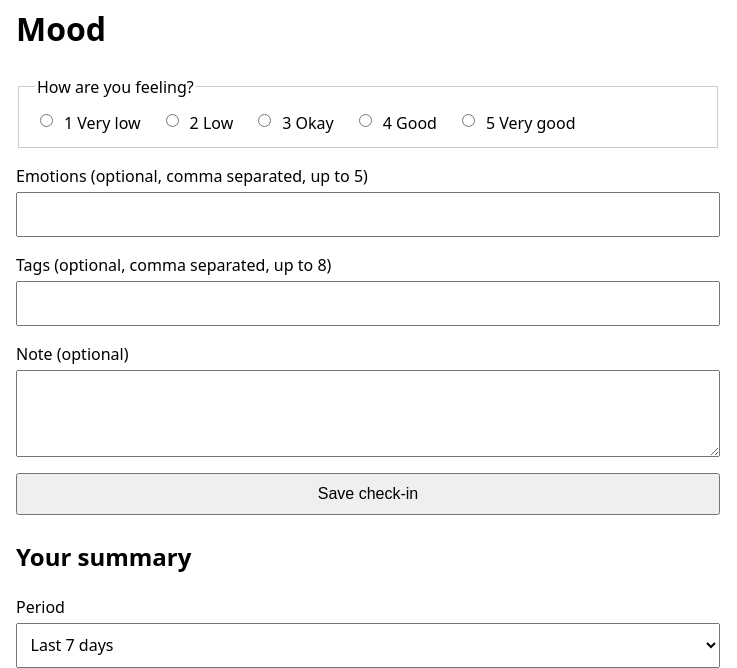
Test case: MoodPage › saves a check-in with the chosen mood and parsed tags
Click the radio button labelled "4 Good": (365, 120) [359,114,372,127]
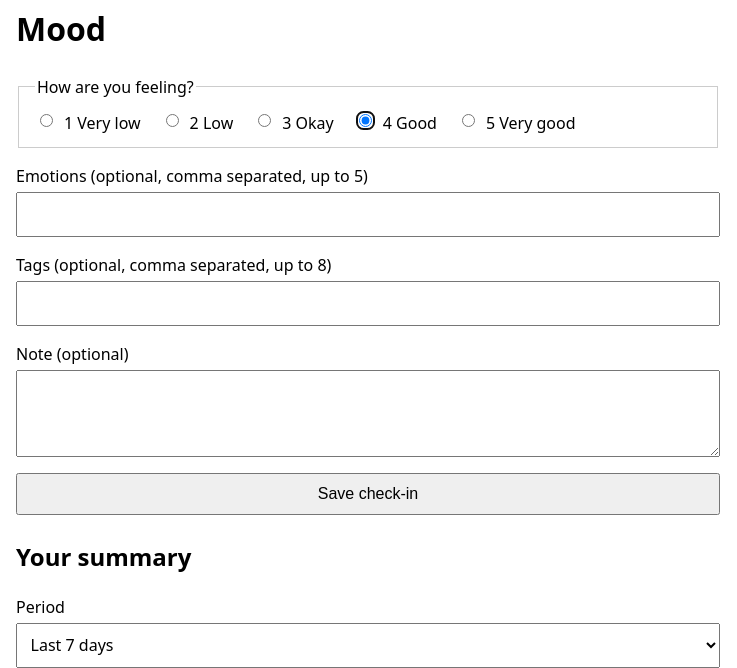
In the field labelled "Tags (optional, comma separated, up to 8)": (368, 304) [16,281,720,326], type "Exam Stress, sleep"
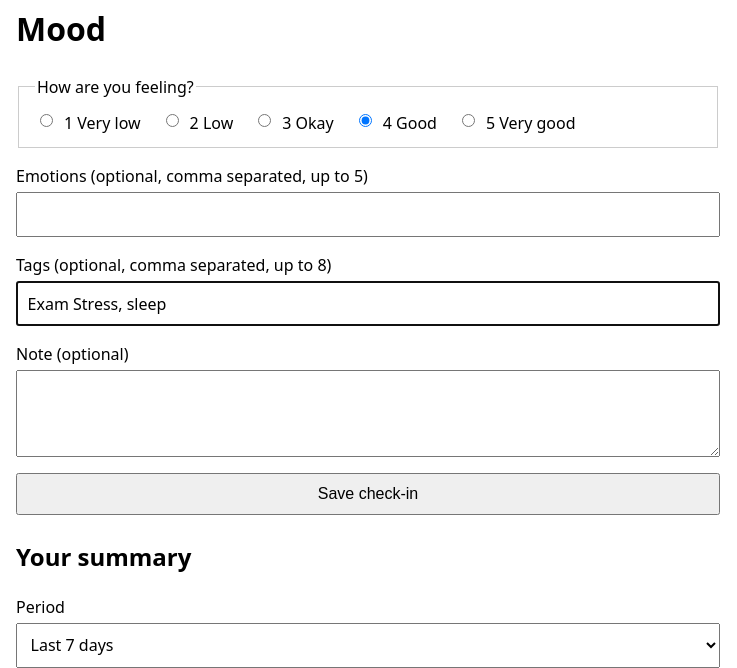
Click the button "Save check-in": (368, 494) [16,473,720,515]
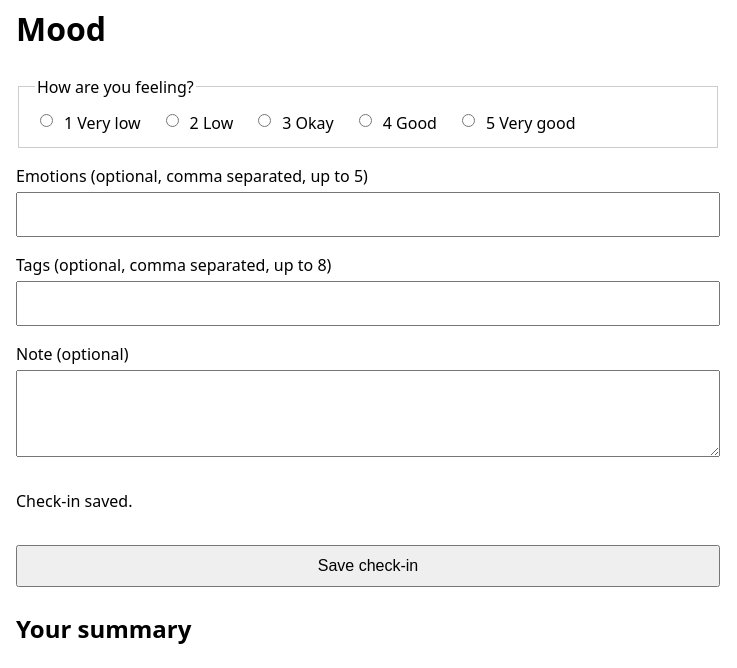
Result: the text "Check-in saved." is shown at [16,490,132,512]
